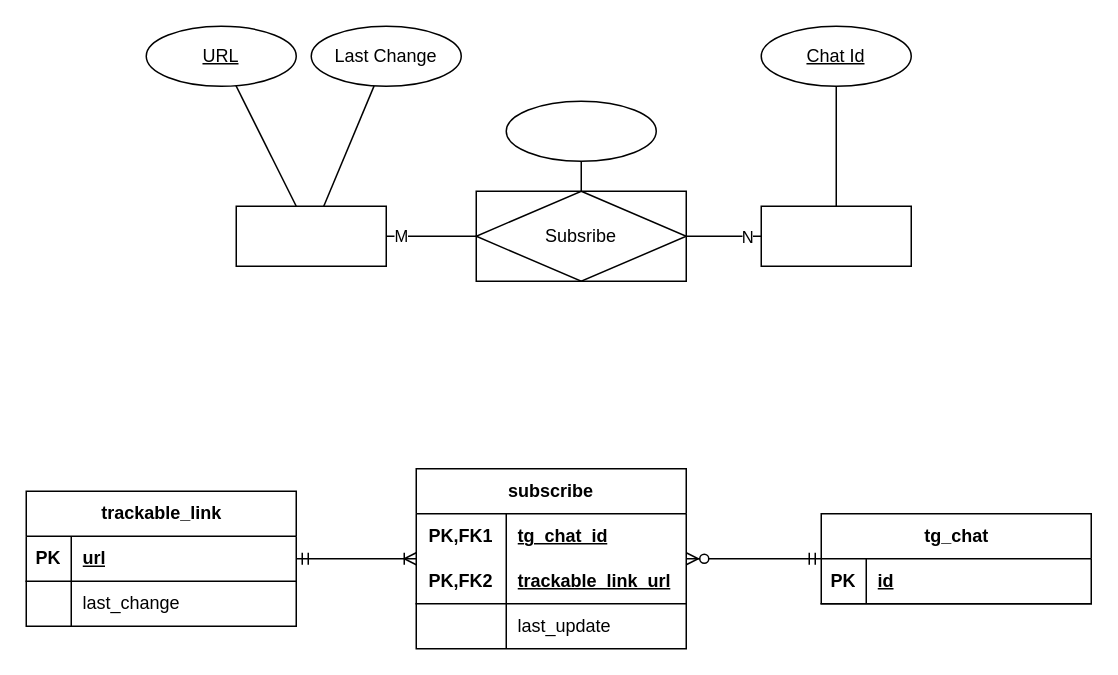
Some shapes in this 1118 by 675 pixel diagram are drawn without their labels. The centre of each missing label's shape, as x and y in pixels:
"Last Update" belongs at (580,130).
"Telegram Chat" belongs at (835,235).
"Trackable Link" belongs at (310,235).
